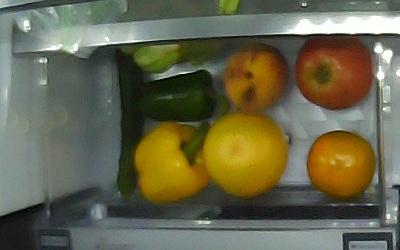apple: (295, 35, 371, 110)
cucumber: (113, 48, 142, 203)
grapefruit: (204, 113, 288, 198)
lettuce: (121, 40, 224, 74)
paprika: (135, 120, 211, 205), (139, 70, 229, 122)
peach: (223, 43, 289, 112)
persimmon: (306, 131, 376, 198)
